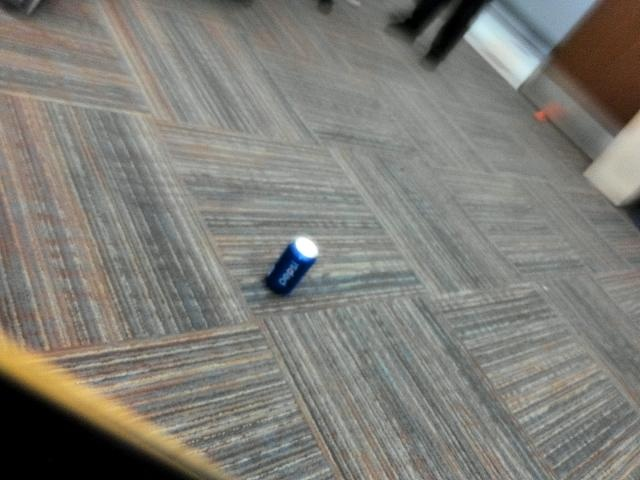can: (266, 226, 319, 301)
